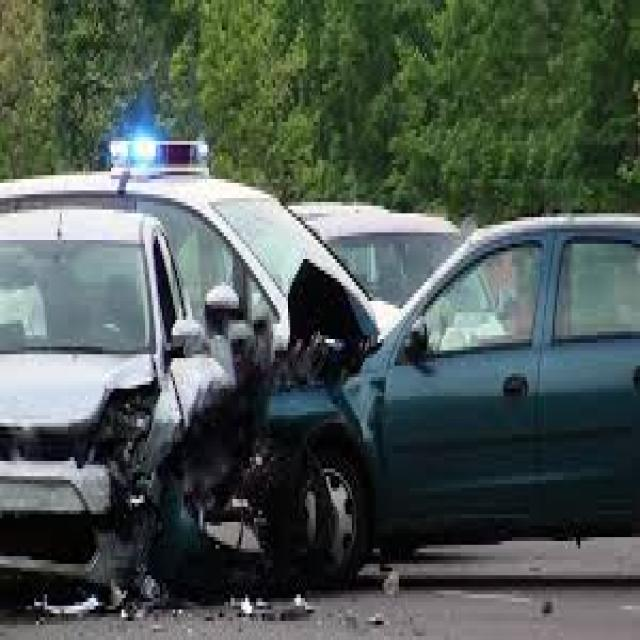car-moderate-accident: (0, 171, 636, 640)
